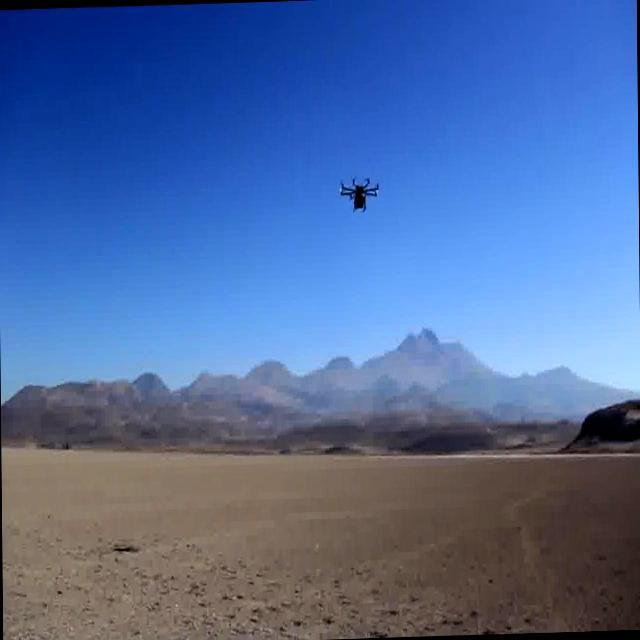drone: (340, 169, 382, 216)
